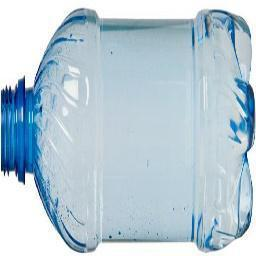plastic: (2, 9, 256, 252)
